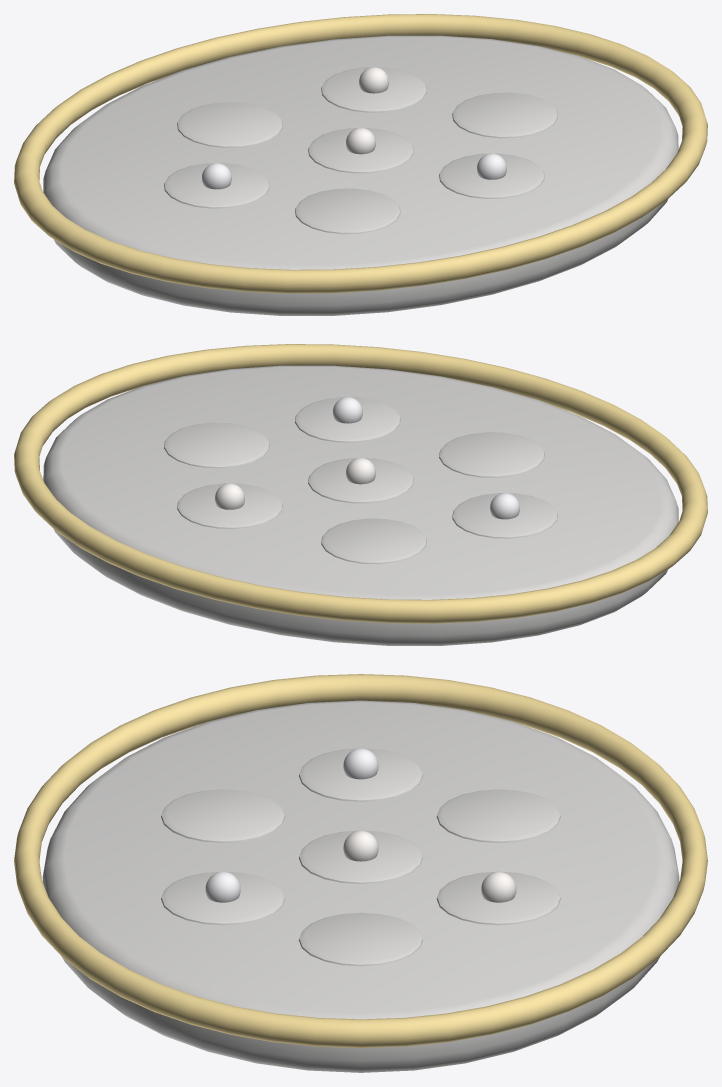
The model's file is scalloped-ceramic-charm-palette.glb.
The picture shows the model from 3 angles, top to bottom: view 1: azimuth 30°, elevation 25°; view 2: azimuth 150°, elevation 25°; view 3: azimuth 270°, elevation 25°; orthographic projection. The views are drawn at different scales.
Visible parts, largest first — view 1: palette_CeramicShellDish, palette_GildedRim, palette_ConcaveWell_3, palette_ConcaveWell_1, palette_ConcaveWell_5, palette_ConcaveWell_0, palette_ConcaveWell_6, palette_ConcaveWell_4, palette_ConcaveWell_2, palette_CharmSample_2, palette_CharmSample_6, palette_CharmSample_4 (+1 smaller); view 2: palette_CeramicShellDish, palette_GildedRim, palette_ConcaveWell_5, palette_ConcaveWell_1, palette_ConcaveWell_3, palette_ConcaveWell_0, palette_ConcaveWell_2, palette_ConcaveWell_4, palette_ConcaveWell_6, palette_CharmSample_2, palette_CharmSample_6, palette_CharmSample_4 (+1 smaller); view 3: palette_CeramicShellDish, palette_GildedRim, palette_ConcaveWell_3, palette_ConcaveWell_5, palette_ConcaveWell_1, palette_ConcaveWell_2, palette_ConcaveWell_6, palette_ConcaveWell_0, palette_ConcaveWell_4, palette_CharmSample_4, palette_CharmSample_0, palette_CharmSample_2 (+1 smaller).
Boxes of the visible parts, x1,y1,x2,y2 form: palette_CeramicShellDish: (43, 35, 678, 315); palette_GildedRim: (14, 14, 707, 293); palette_ConcaveWell_3: (177, 102, 282, 147); palette_ConcaveWell_1: (452, 92, 557, 138); palette_ConcaveWell_5: (295, 188, 400, 234); palette_ConcaveWell_0: (308, 128, 413, 173); palette_ConcaveWell_6: (439, 153, 544, 198); palette_ConcaveWell_4: (164, 163, 269, 208); palette_ConcaveWell_2: (321, 67, 426, 112); palette_CharmSample_2: (359, 67, 389, 93); palette_CharmSample_6: (477, 153, 506, 179); palette_CharmSample_4: (201, 163, 231, 189); palette_CeramicShellDish: (43, 365, 678, 645); palette_GildedRim: (14, 344, 707, 623); palette_ConcaveWell_5: (439, 432, 544, 477); palette_ConcaveWell_1: (164, 422, 269, 468); palette_ConcaveWell_3: (321, 518, 426, 564); palette_ConcaveWell_0: (308, 458, 413, 503); palette_ConcaveWell_2: (177, 483, 282, 528); palette_ConcaveWell_4: (452, 493, 557, 538); palette_ConcaveWell_6: (295, 397, 400, 442); palette_CharmSample_2: (215, 483, 244, 509); palette_CharmSample_6: (332, 397, 362, 423); palette_CharmSample_4: (490, 493, 520, 519); palette_CeramicShellDish: (42, 700, 679, 1072); palette_GildedRim: (14, 674, 707, 1047); palette_ConcaveWell_3: (436, 789, 560, 842); palette_ConcaveWell_5: (161, 789, 285, 842); palette_ConcaveWell_1: (299, 912, 422, 966); palette_ConcaveWell_2: (437, 871, 560, 925); palette_ConcaveWell_6: (161, 871, 284, 925); palette_ConcaveWell_0: (299, 830, 422, 883); palette_ConcaveWell_4: (299, 748, 422, 801); palette_CharmSample_4: (343, 748, 378, 779); palette_CharmSample_0: (343, 830, 378, 861); palette_CharmSample_2: (481, 871, 516, 902).
Bounding box in the file's own units: 0.2398 × 0.026 × 0.1962.
